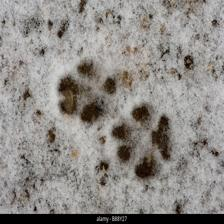fox: (108, 102, 184, 184), (55, 56, 119, 128)
